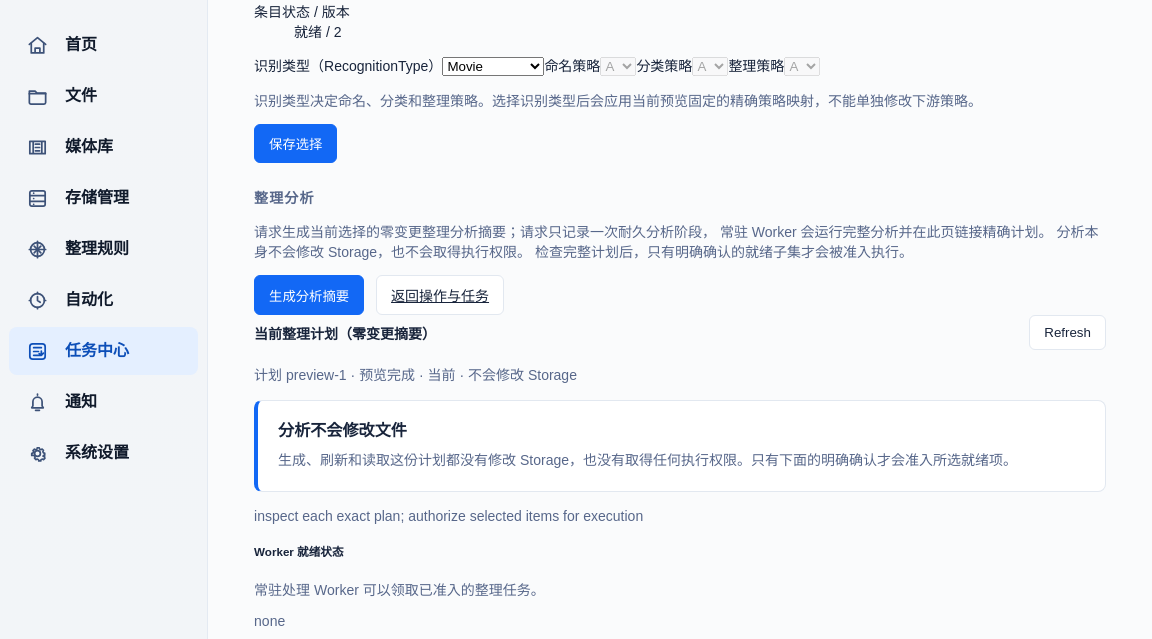
Test: V2 manual Organize journey › recomputes destructive requirements and invalidates confirmation when selection changes
(page scrolled)
Click the button "生成分析摘要". click: (309, 295)
box: x1=254 y1=275 x2=364 y2=315
(page scrolled)
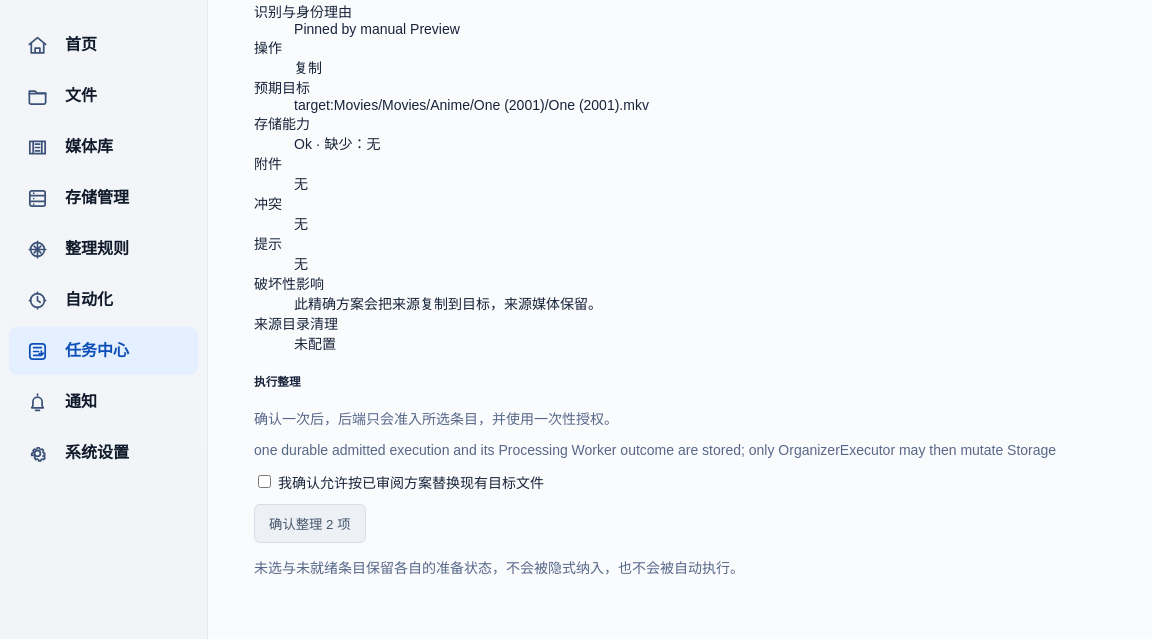
Click the checkbox labelled "我确认允许按已审阅方案替换现有目标文件". click: (265, 482)
box: x1=258 y1=475 x2=271 y2=488
(page scrolled)
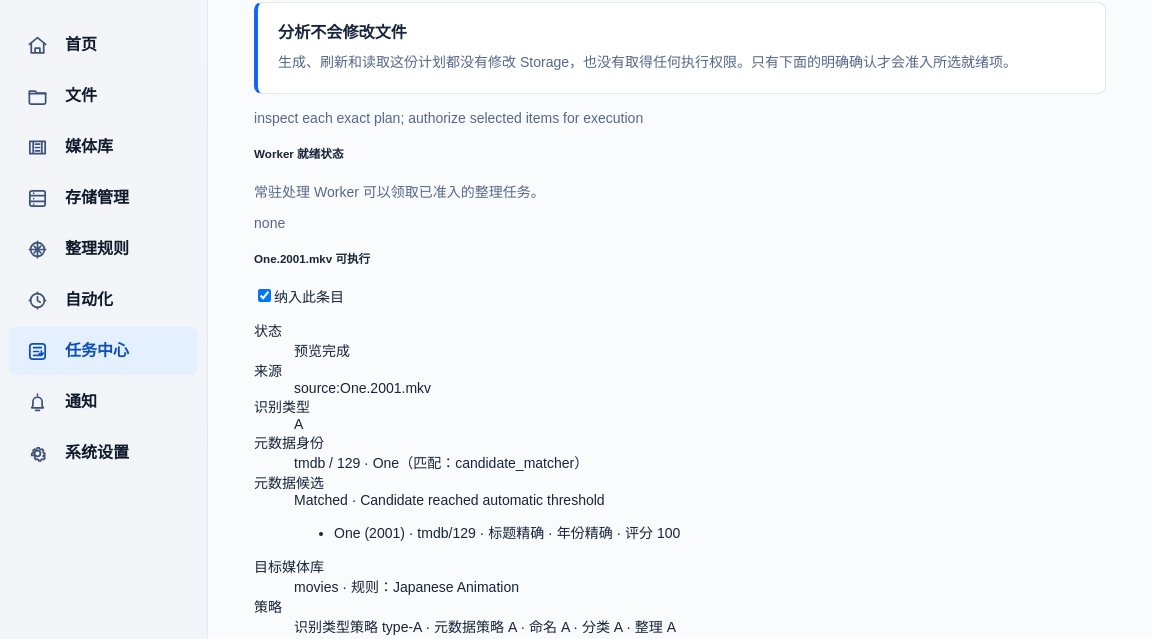
Click the checkbox named "选择 One.2001.mkv". click: (265, 295)
box: x1=258 y1=289 x2=271 y2=302
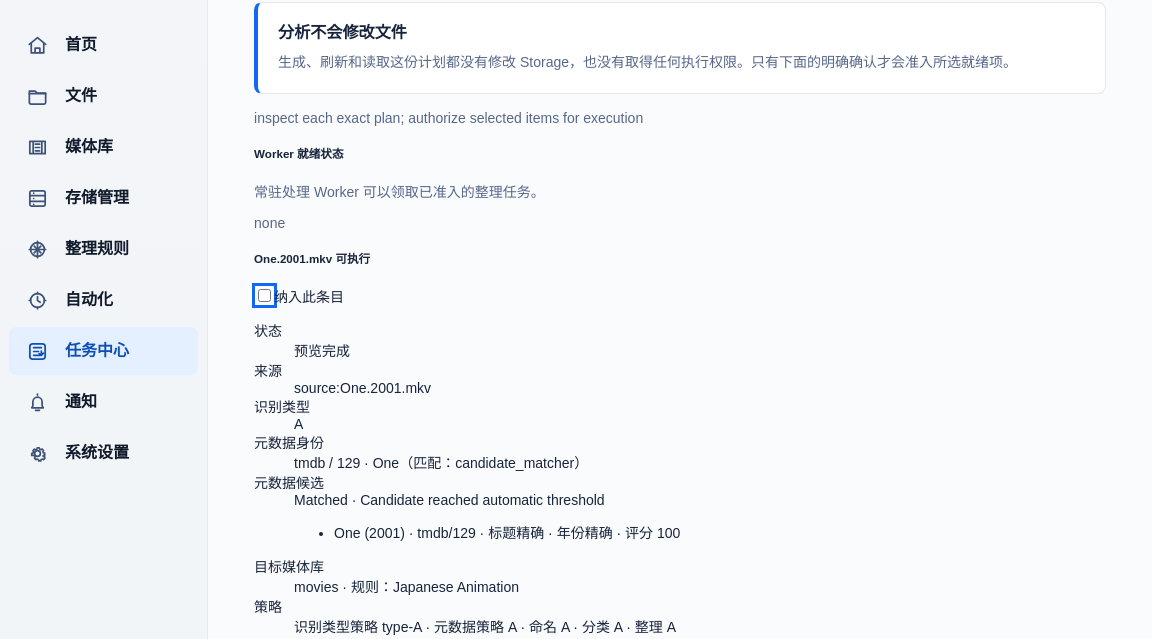
Expected: the label "按已审阅方案替换现有目标文件" is not shown
Click the checkbox named "选择 One.2001.mkv". click: (265, 295)
box: x1=258 y1=289 x2=271 y2=302
(page scrolled)
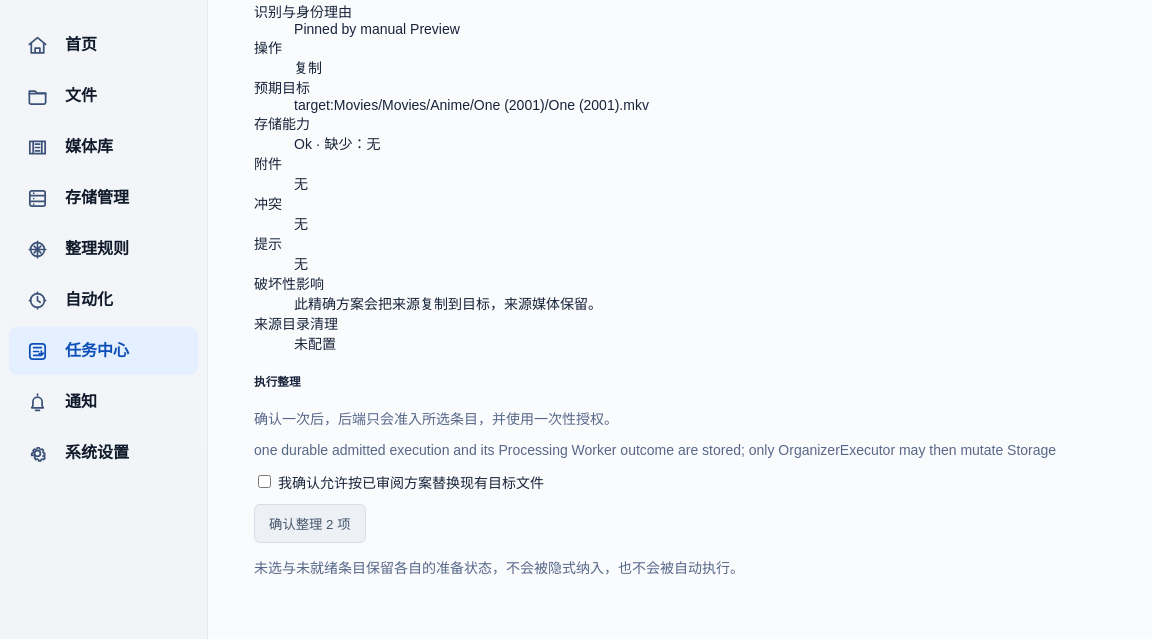
Expected: the checkbox labelled "我确认允许按已审阅方案替换现有目标文件" is not checked, x1=258 y1=475 x2=271 y2=488
Expected: the button "确认整理 2 项" is disabled, x1=254 y1=504 x2=366 y2=543
